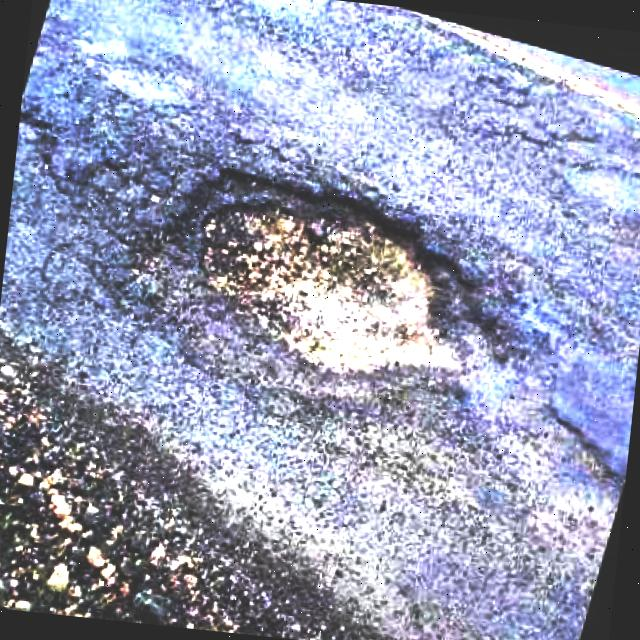pothole: (143, 148, 520, 398)
